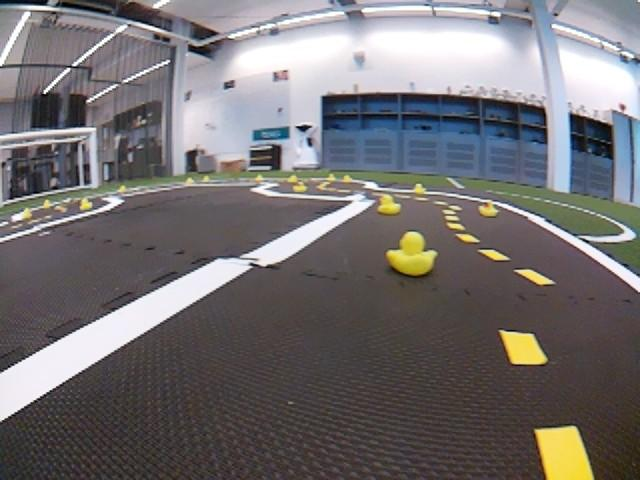Duckies: (385, 232, 437, 276), (377, 194, 401, 215), (478, 202, 499, 218), (292, 182, 307, 192), (20, 208, 32, 220), (413, 184, 427, 194), (79, 198, 93, 208), (342, 175, 353, 182), (288, 175, 298, 182), (118, 185, 126, 193), (327, 174, 336, 181), (253, 175, 263, 181), (43, 200, 51, 207), (187, 178, 194, 185), (202, 176, 210, 182)
